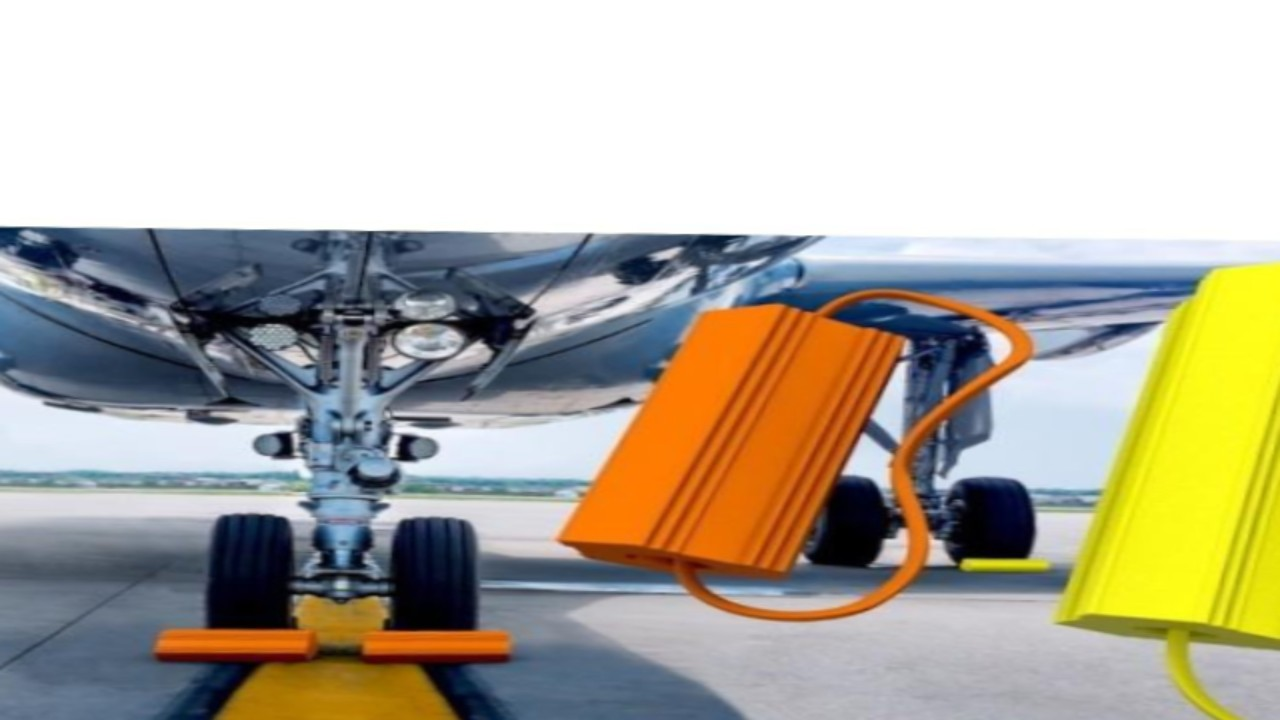chock: (532, 298, 923, 589), (1043, 255, 1280, 662), (144, 622, 329, 667), (353, 626, 521, 665), (955, 554, 1056, 575)
wheel: (196, 512, 302, 631), (382, 515, 488, 633), (936, 472, 1038, 566), (796, 471, 893, 566)
